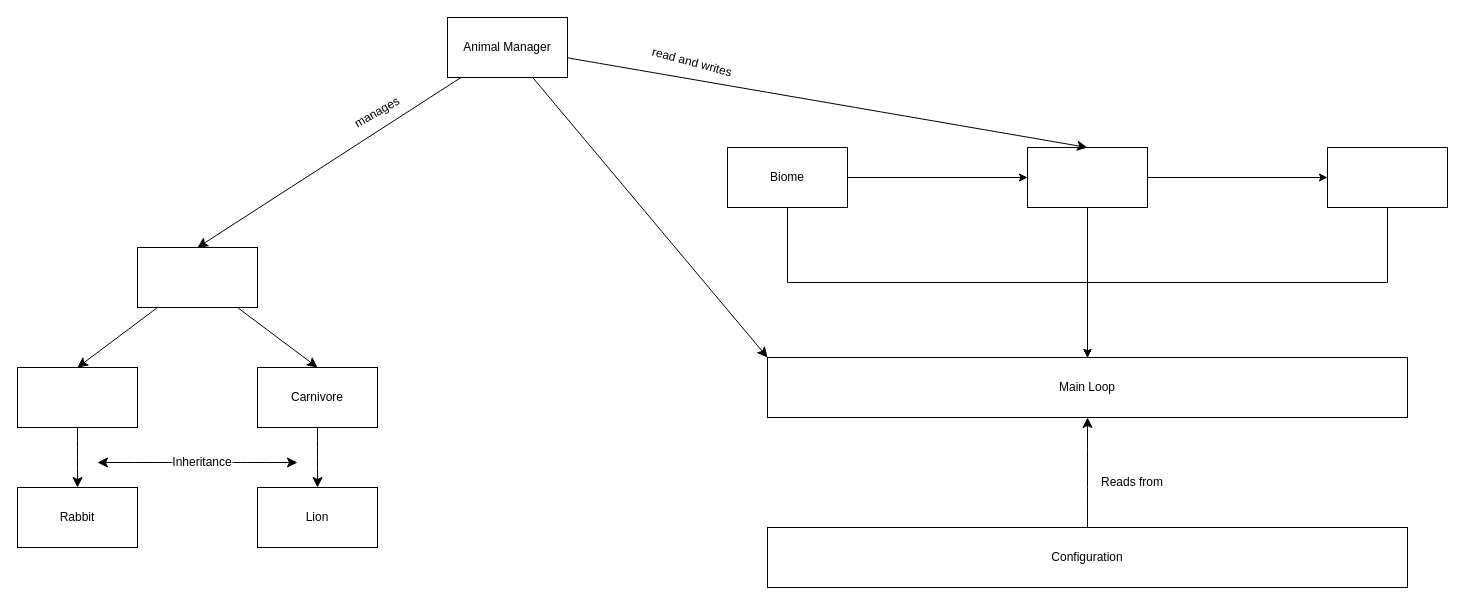
Some shapes in this 1465 by 605 pixel diagram are drawn without their labels. The shapes that lost their labels are listed below. From the top down, each one's centre as x and y in pixels, then its label:
At point 1087,177: "Grid".
At point 1387,177: "Renderer".
At point 197,277: "Animal".
At point 77,397: "Herbivore".
